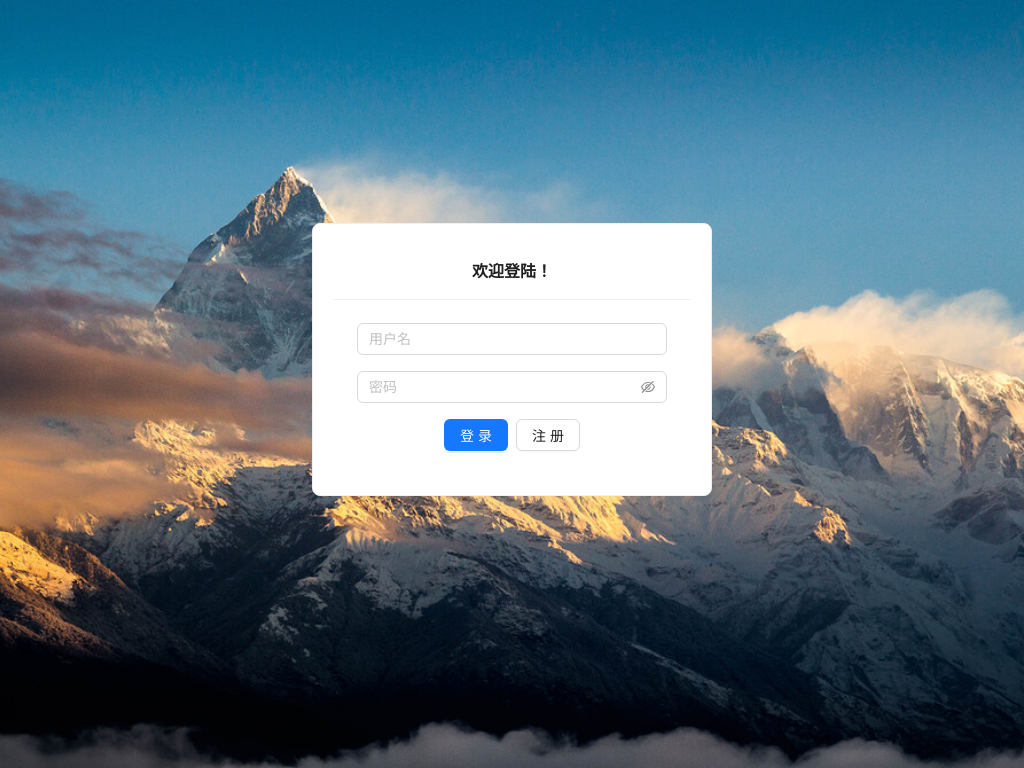
Test: 注册测试 › 测试在输入邮箱格式不正确时注册失败
Click the button with test id "register-show-button" at point(548, 435), box [516, 419, 580, 451]
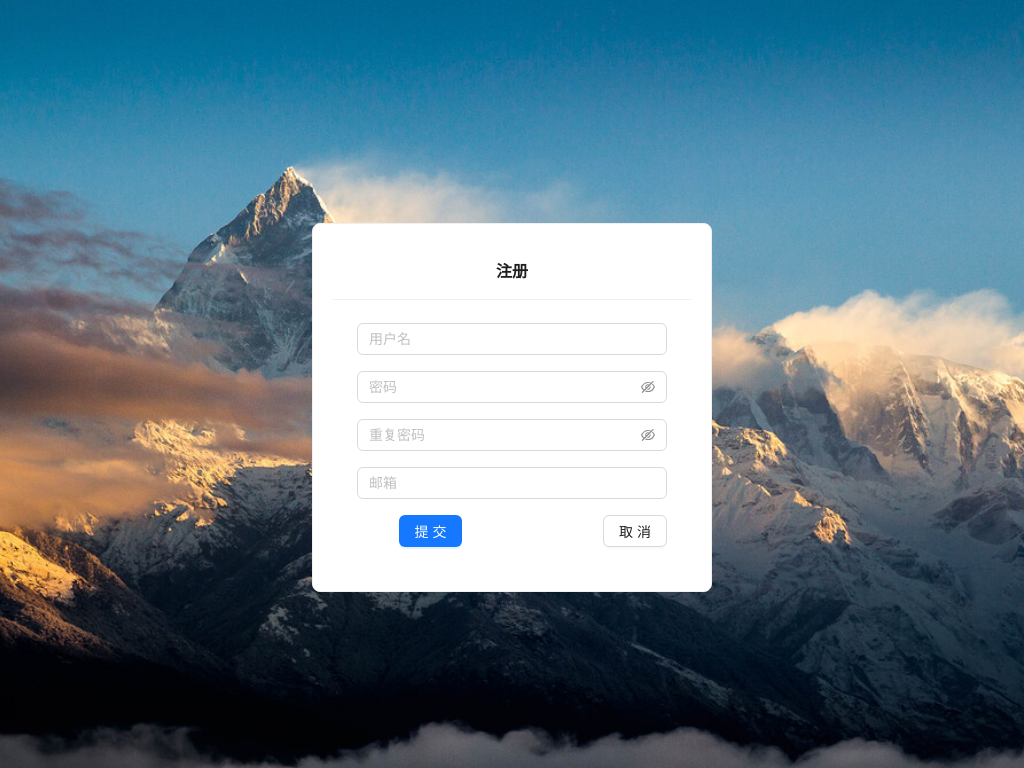
Type "userTest" into the field with placeholder "用户名" at point(512, 339), box [357, 323, 667, 355]
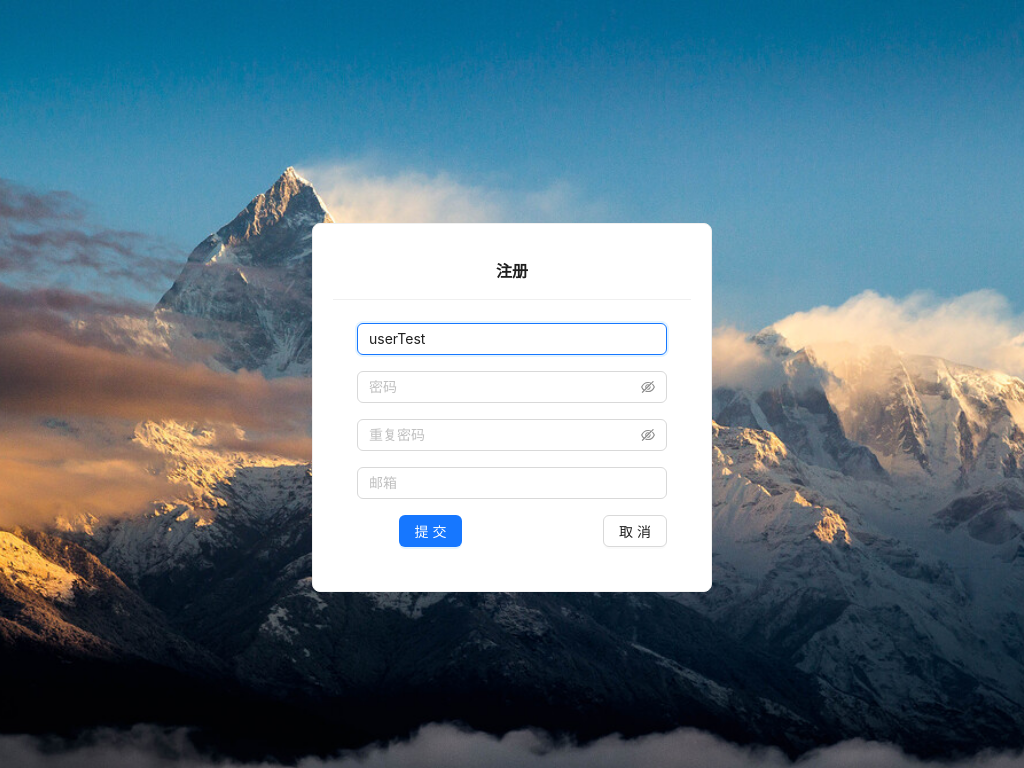
Type "2" into the password field with placeholder "密码" at point(503, 387), box [369, 376, 637, 398]
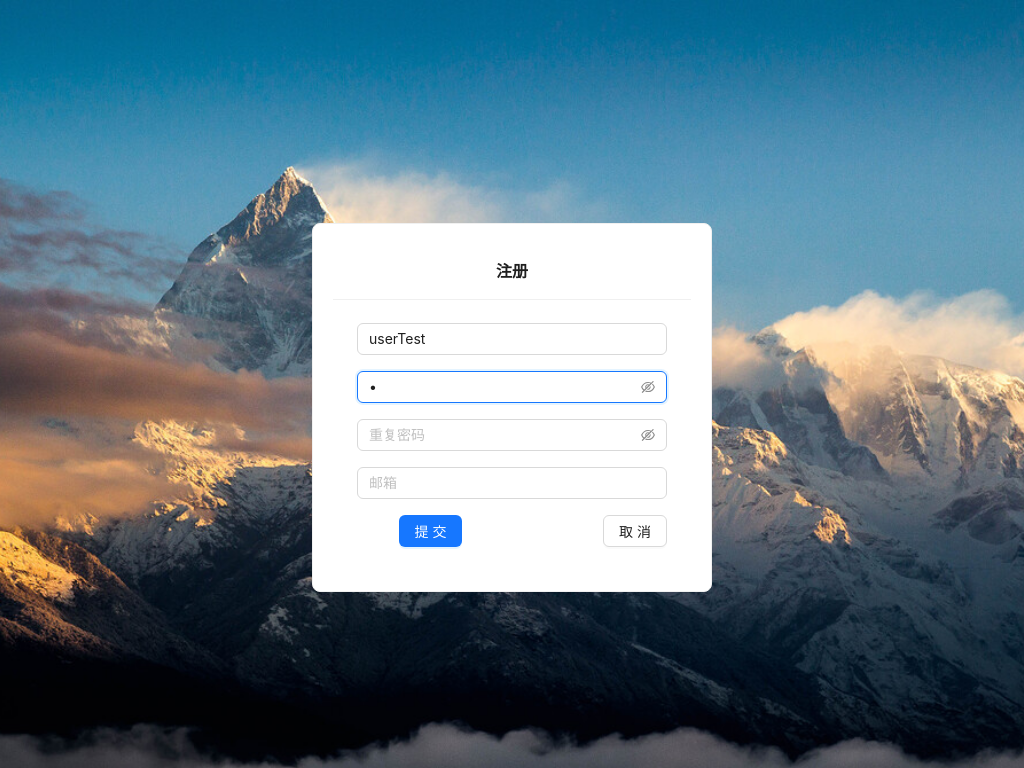
Type "2" into the password field with placeholder "重复密码" at point(503, 435), box [369, 424, 637, 446]
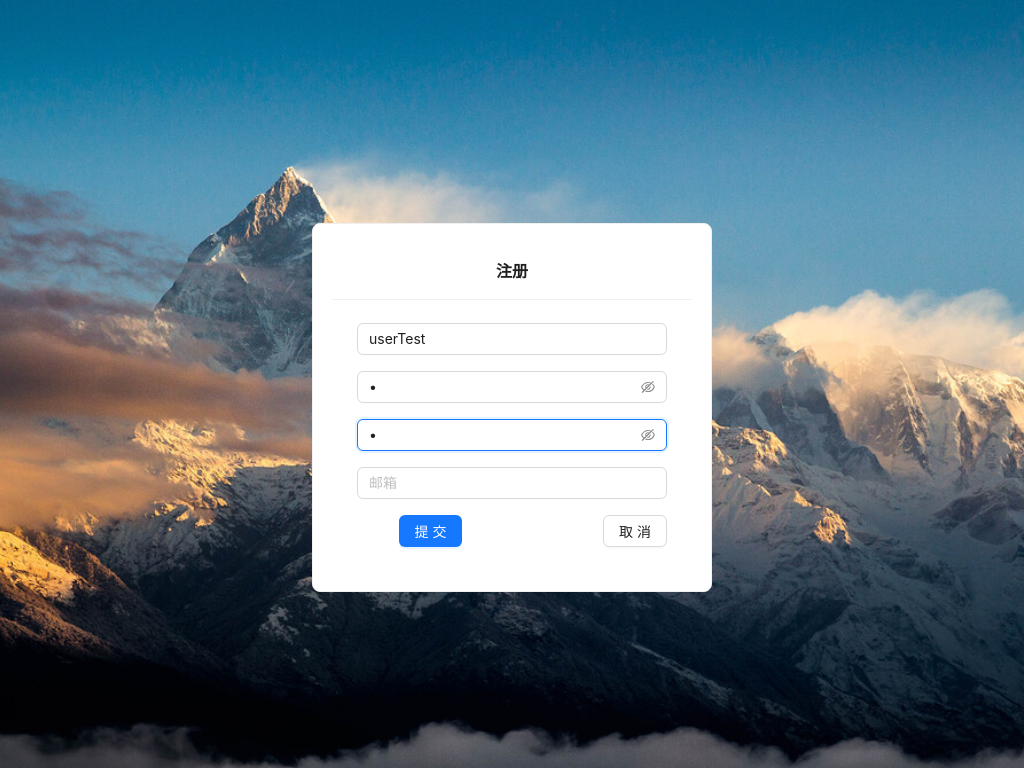
Type "1" into the field with placeholder "邮箱" at point(512, 483), box [357, 467, 667, 499]
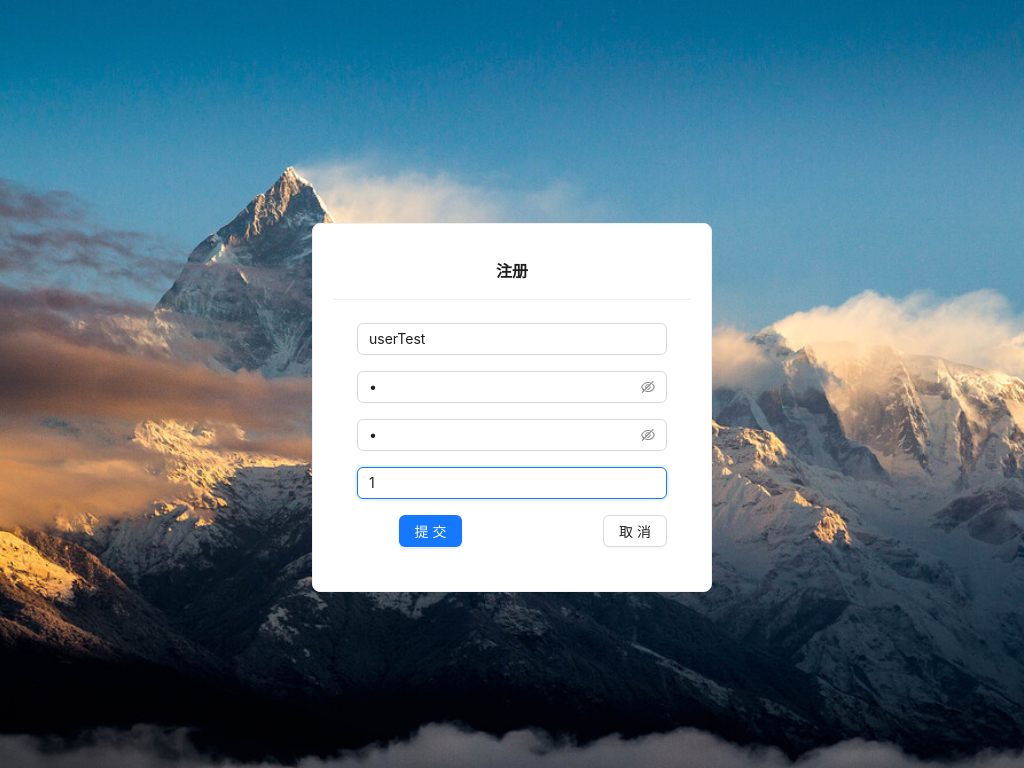
Click the button with test id "register-submit-button" at point(431, 531), box [399, 515, 463, 547]
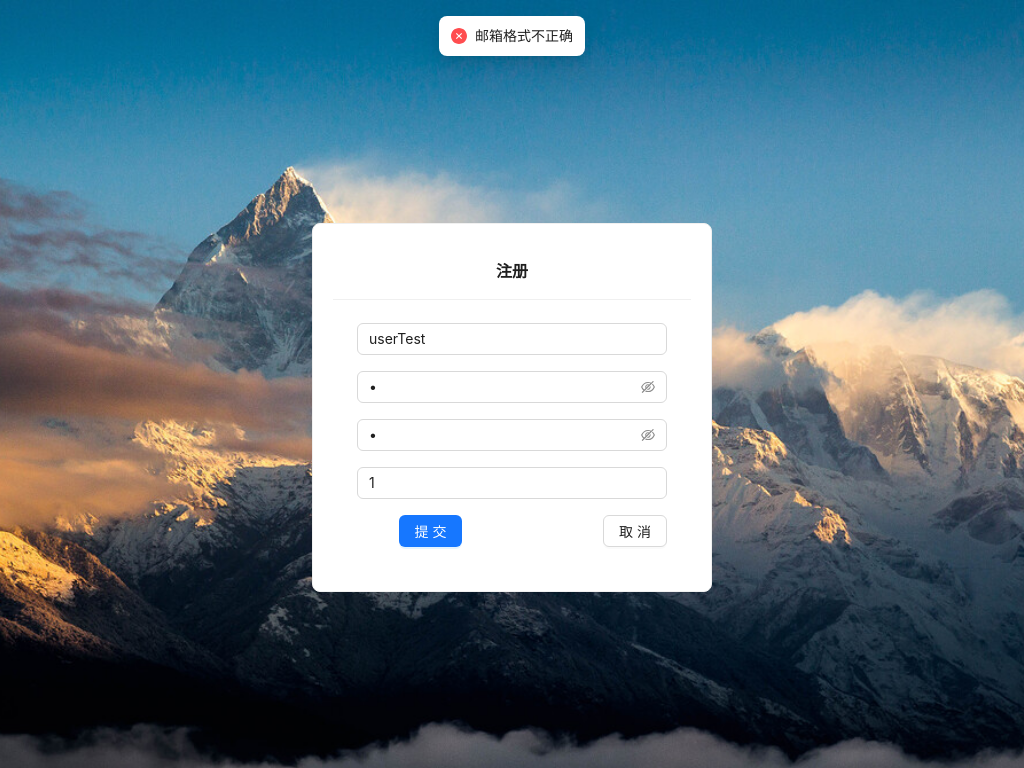
Expected: the text "邮箱格式不正确" is shown, [475, 25, 573, 47]
